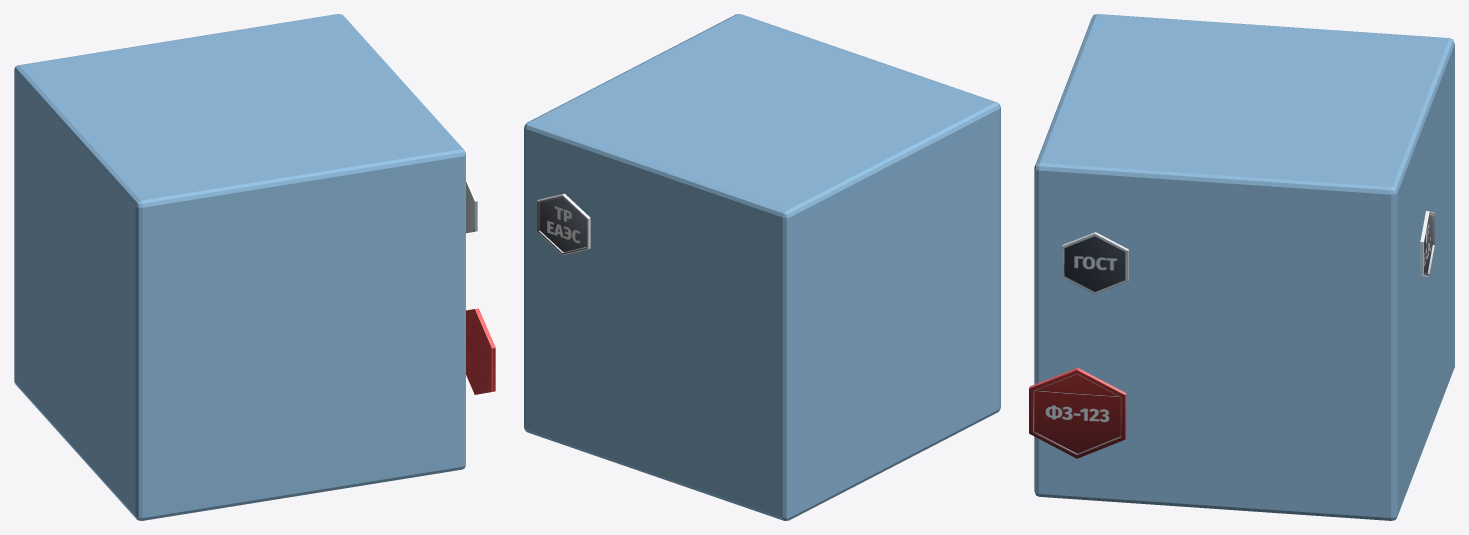
3 views of the same model, side by side, from view 1: azimuth 30°, elevation 25°; view 2: azimuth 150°, elevation 25°; view 3: azimuth 270°, elevation 25° (orthographic). The views are drawn at different scales.
Visible parts, largest first — view 1: Cube, Plane.005; view 2: Cube, Plane.006; view 3: Cube, Plane.005, Plane.004, Plane.006.
Boxes of the visible parts, <box> form: Cube: <box>14,14,465,520</box>; Plane.005: <box>466,308,495,394</box>; Cube: <box>524,14,1000,520</box>; Plane.006: <box>537,193,590,255</box>; Cube: <box>1034,14,1454,520</box>; Plane.005: <box>1029,367,1126,458</box>; Plane.004: <box>1062,232,1128,294</box>; Plane.006: <box>1420,211,1434,276</box>.
Size of the model in its own units: 2.69 by 2.36 by 2.73.
7 materials, 5 textured.
